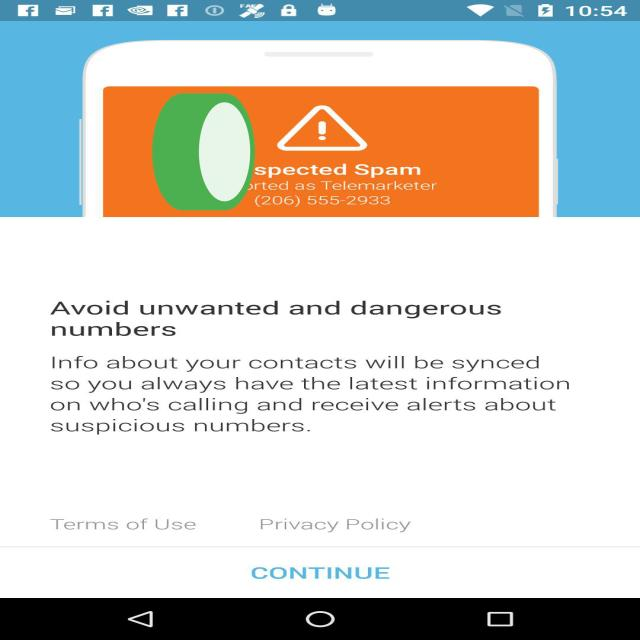social proof: (148, 48, 260, 264)
